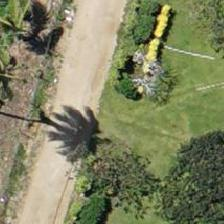coconut_tree: (0, 29, 45, 119), (0, 0, 56, 68)
